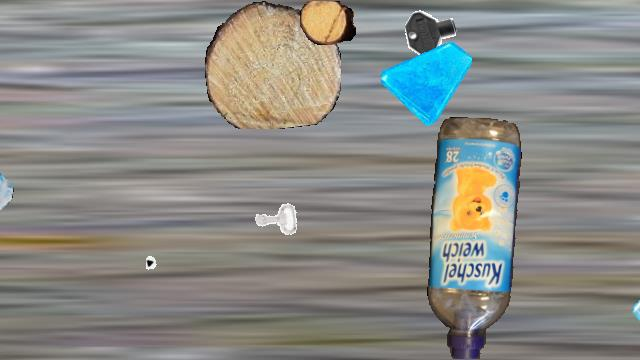glass: (381, 35, 471, 125), (0, 139, 14, 213), (631, 273, 640, 359)
metal: (146, 238, 208, 300), (401, 1, 463, 63), (249, 193, 301, 245)
plastic: (426, 117, 524, 359)
wood: (205, 1, 341, 129), (300, 1, 356, 45)
